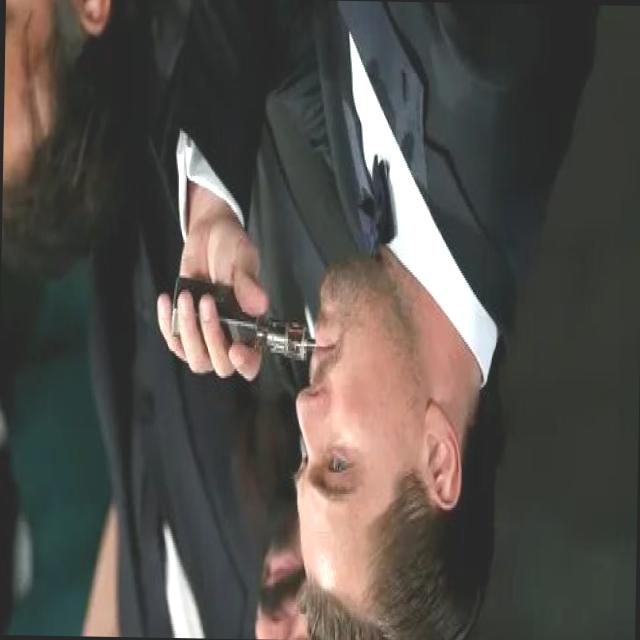smoke: (170, 262, 320, 360)
